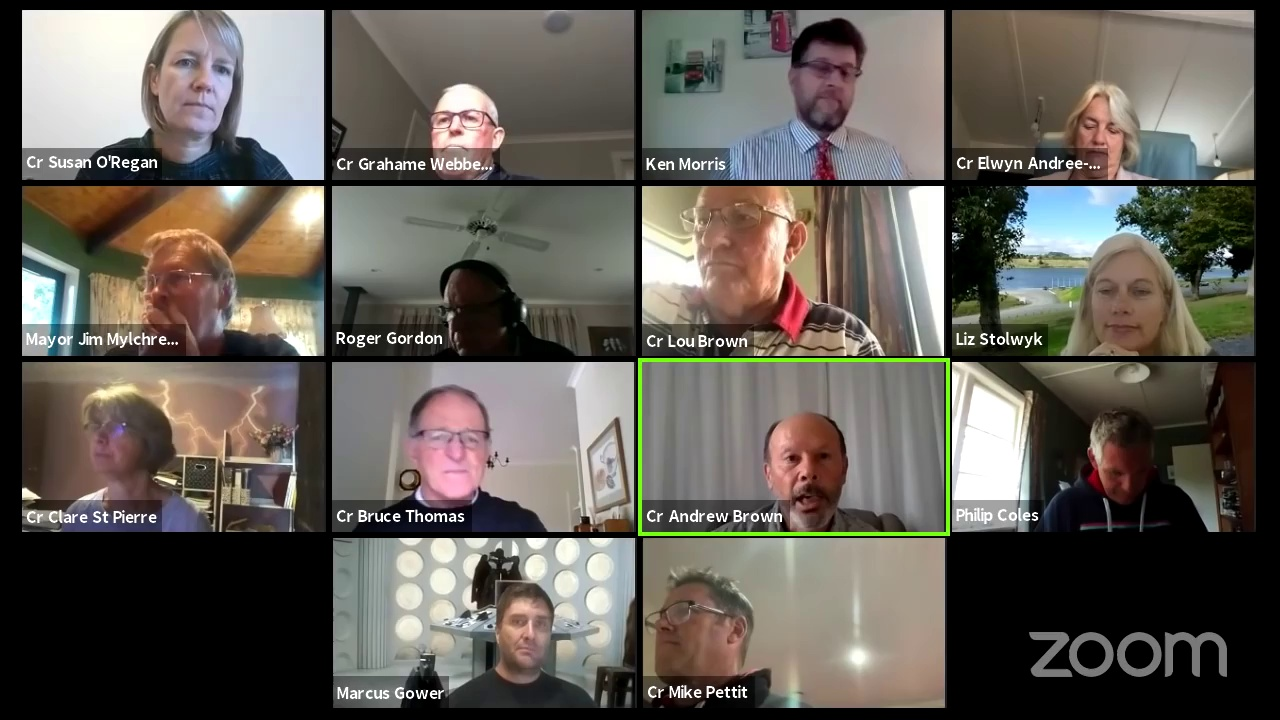Distracted: (654, 575, 739, 680), (1075, 423, 1170, 507), (1067, 84, 1138, 164), (435, 276, 512, 346)
Not Distracted: (129, 21, 253, 146), (672, 194, 797, 308), (125, 239, 221, 346), (762, 419, 849, 524), (410, 398, 498, 493), (786, 29, 870, 125), (1086, 244, 1170, 339), (80, 397, 166, 478), (426, 87, 502, 176), (492, 593, 558, 673)
